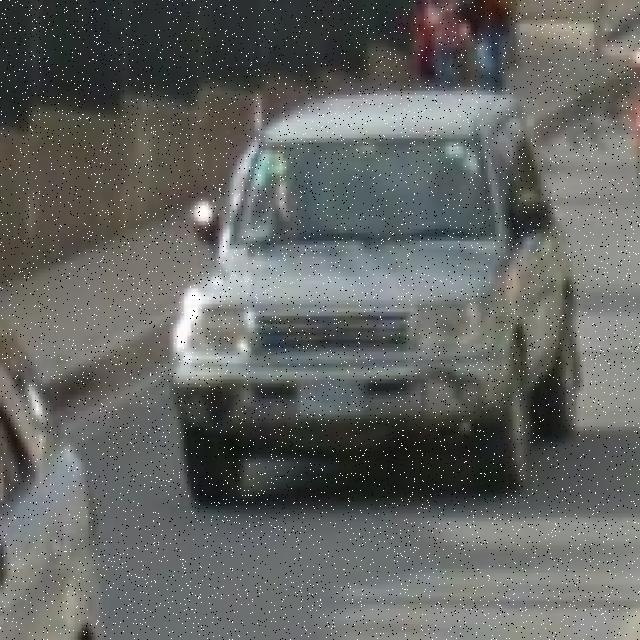cars: (182, 97, 579, 494)
